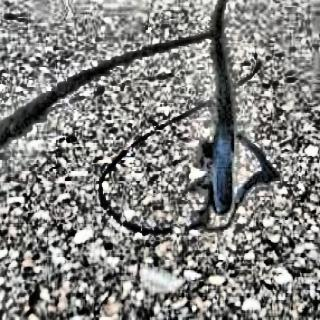crack: (0, 30, 213, 150), (191, 0, 282, 234)
